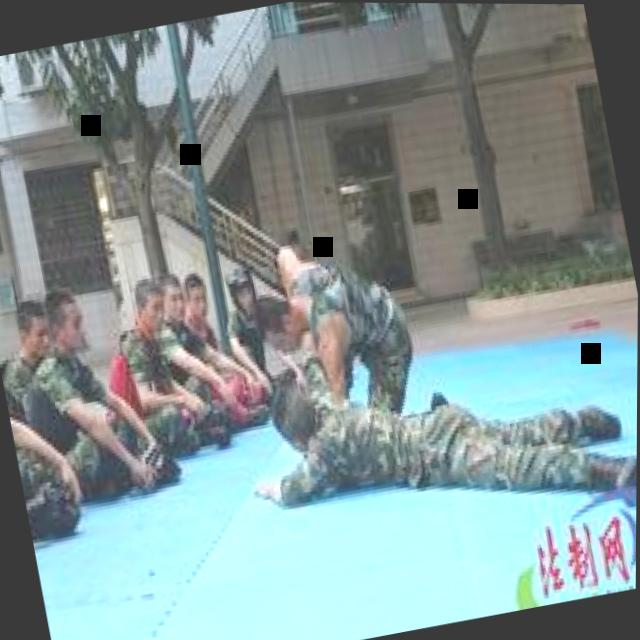Fall-Detected: (228, 295, 638, 561)
